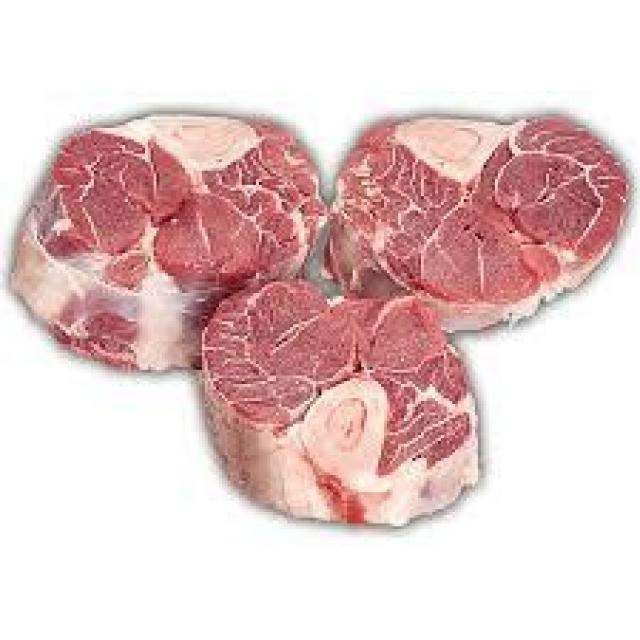beef: (13, 98, 324, 338)
